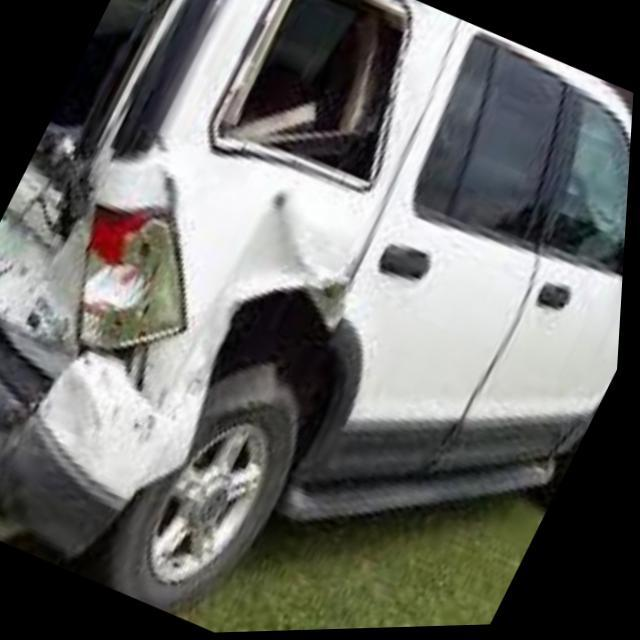crash: (0, 0, 453, 574)
